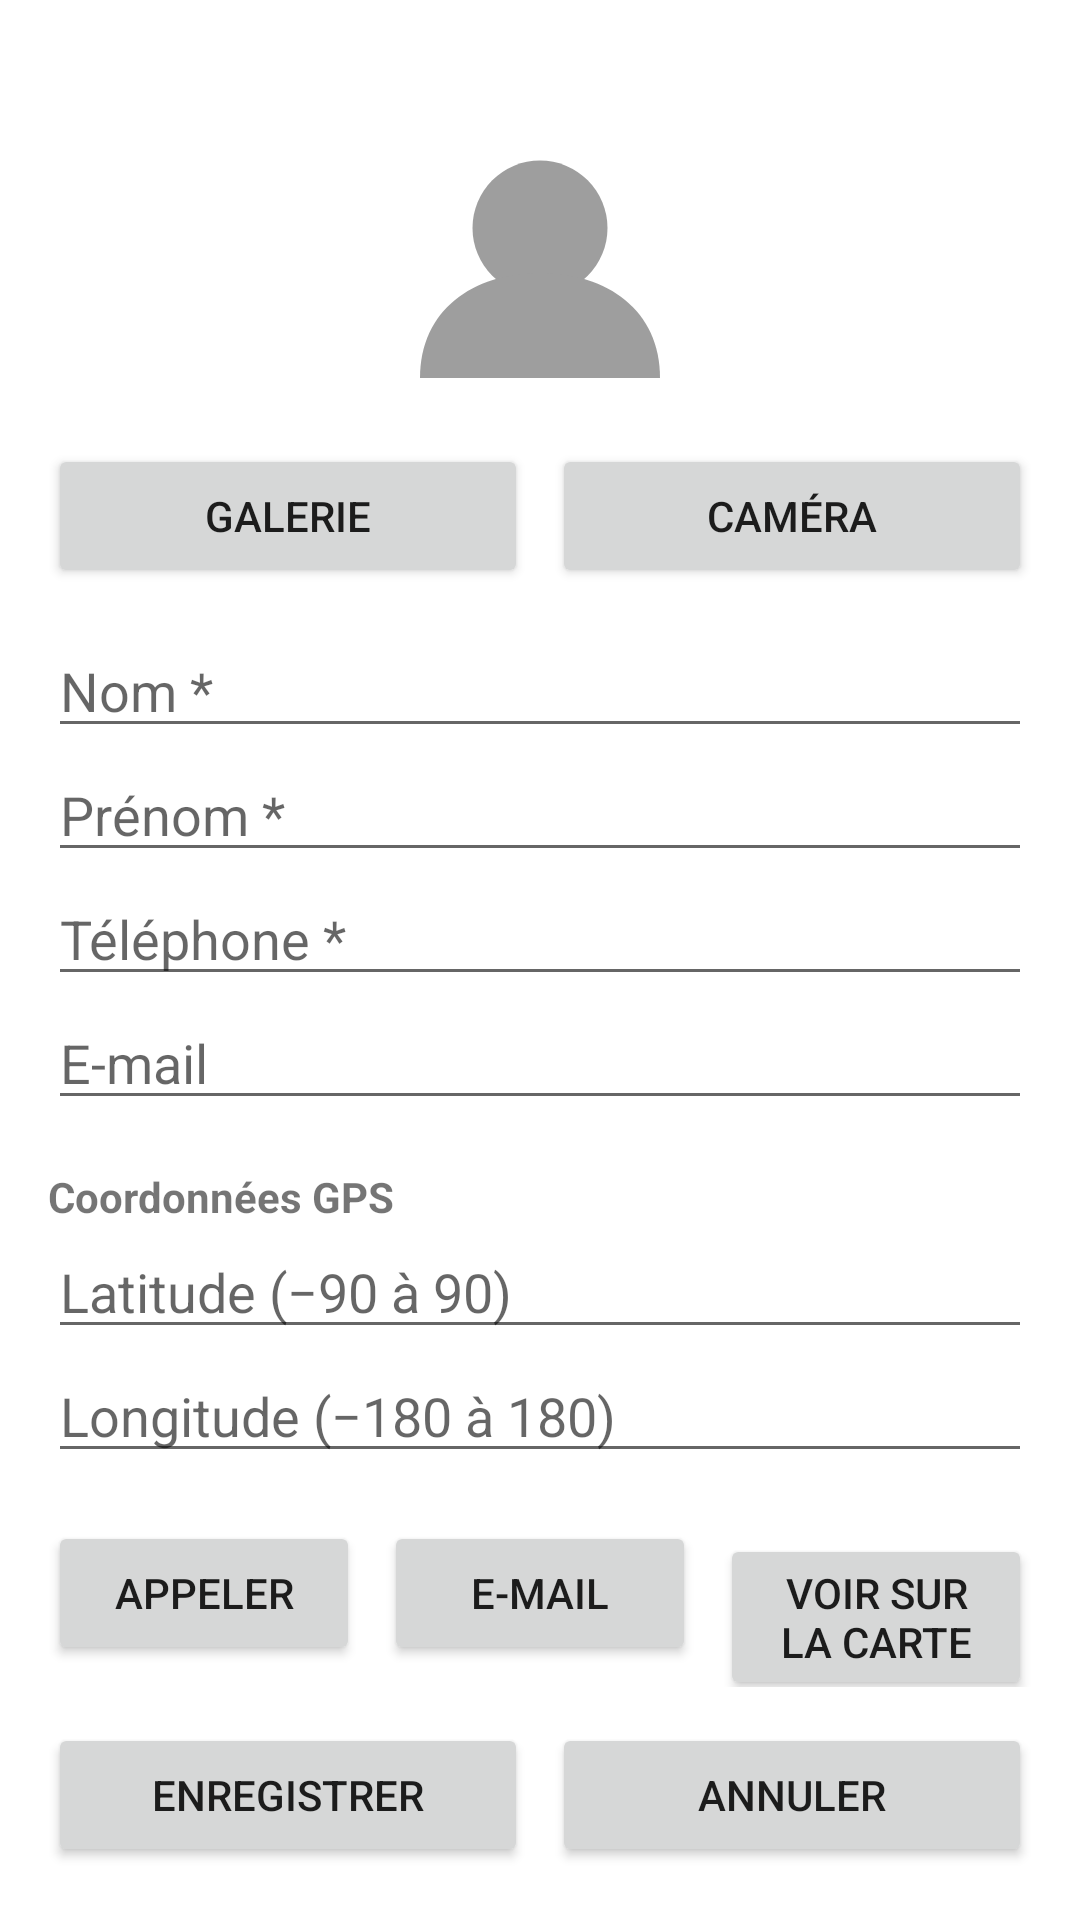

Icon bounding boxes for this 1080*1920 phone screenshot, format {"x1": x1, "y1": y1, "x2": x2, "y2": y2}:
Photo du contact: {"x1": 420, "y1": 160, "x2": 660, "y2": 378}
